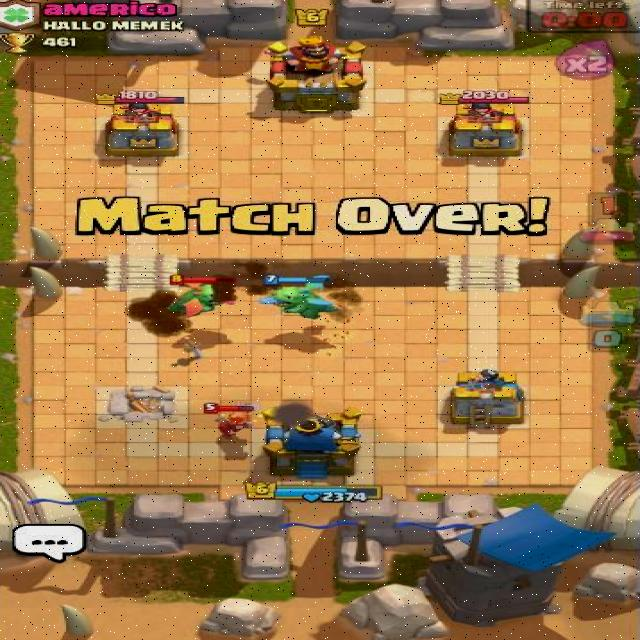Enemy-BabyDragon: (166, 274, 240, 320)
Enemy-Valkyrie: (200, 402, 259, 443)
Player-BabyDragon: (256, 274, 342, 321)
